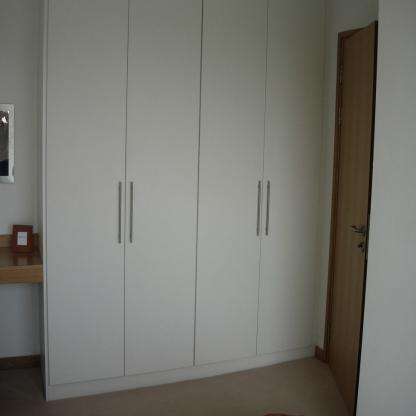door: (323, 34, 370, 392)
hinged: (326, 323, 331, 343), (340, 66, 344, 86), (338, 106, 341, 127)
lever: (349, 221, 367, 238)
